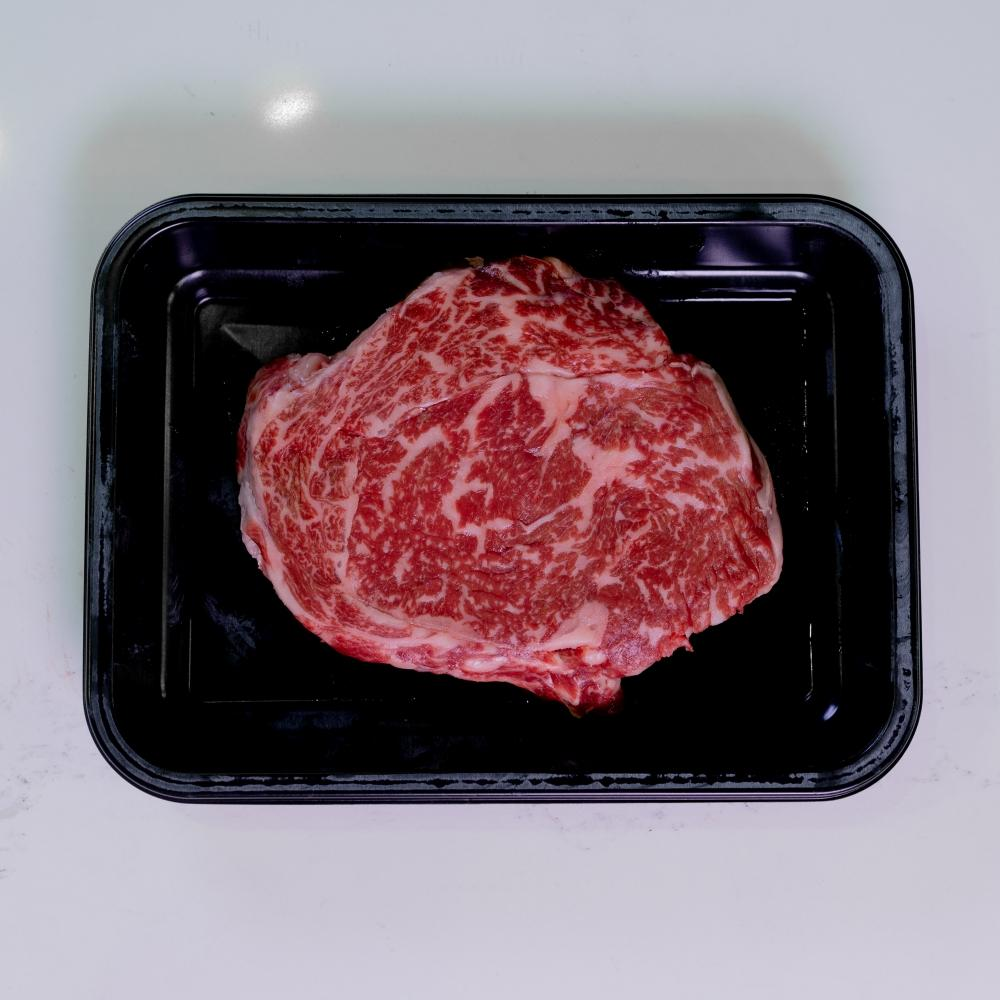beef: (391, 394, 1000, 1000)
